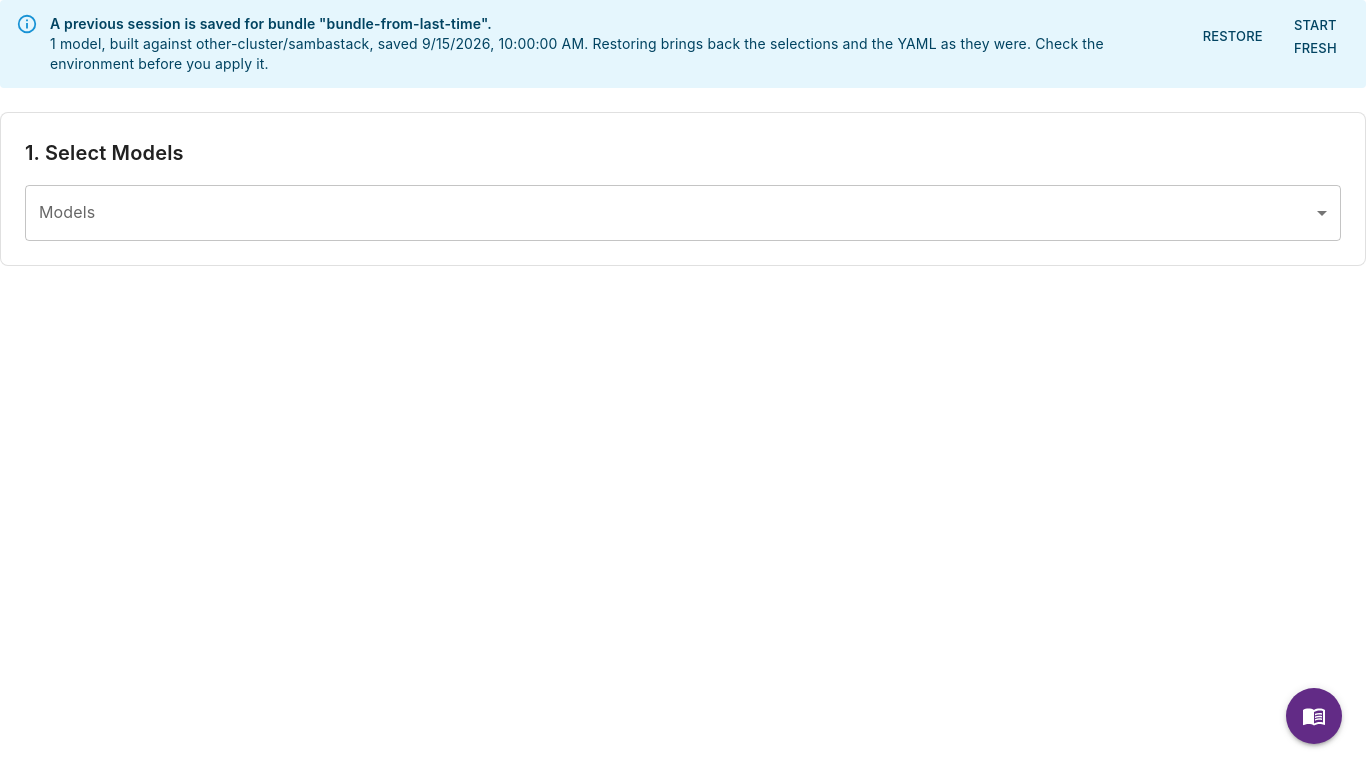
Test: ModelSelection saved-session restore › clears the saved session when the user starts fresh
The image size is (1366, 768).
Click the button "Start fresh" at (1315, 37), box [1273,10,1358,64]
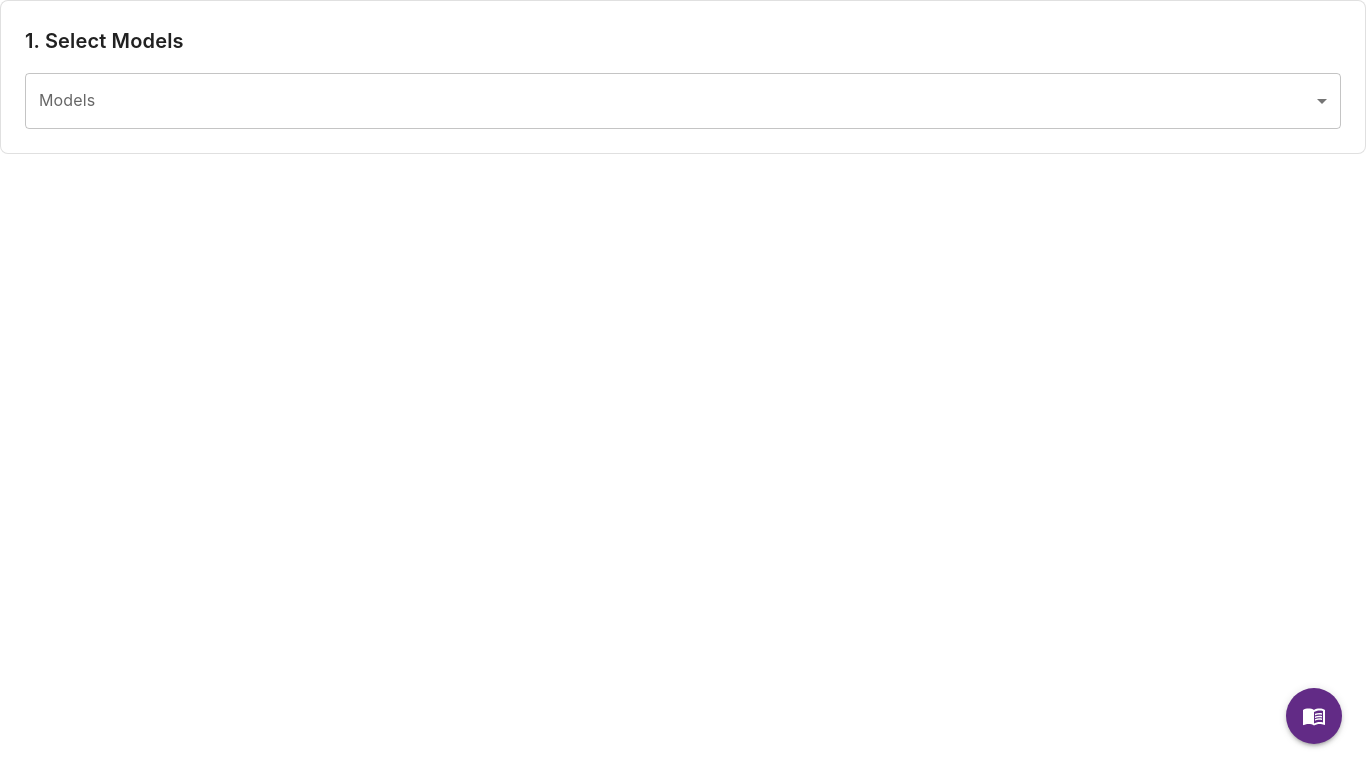
Now the text "A previous session is saved" is gone
